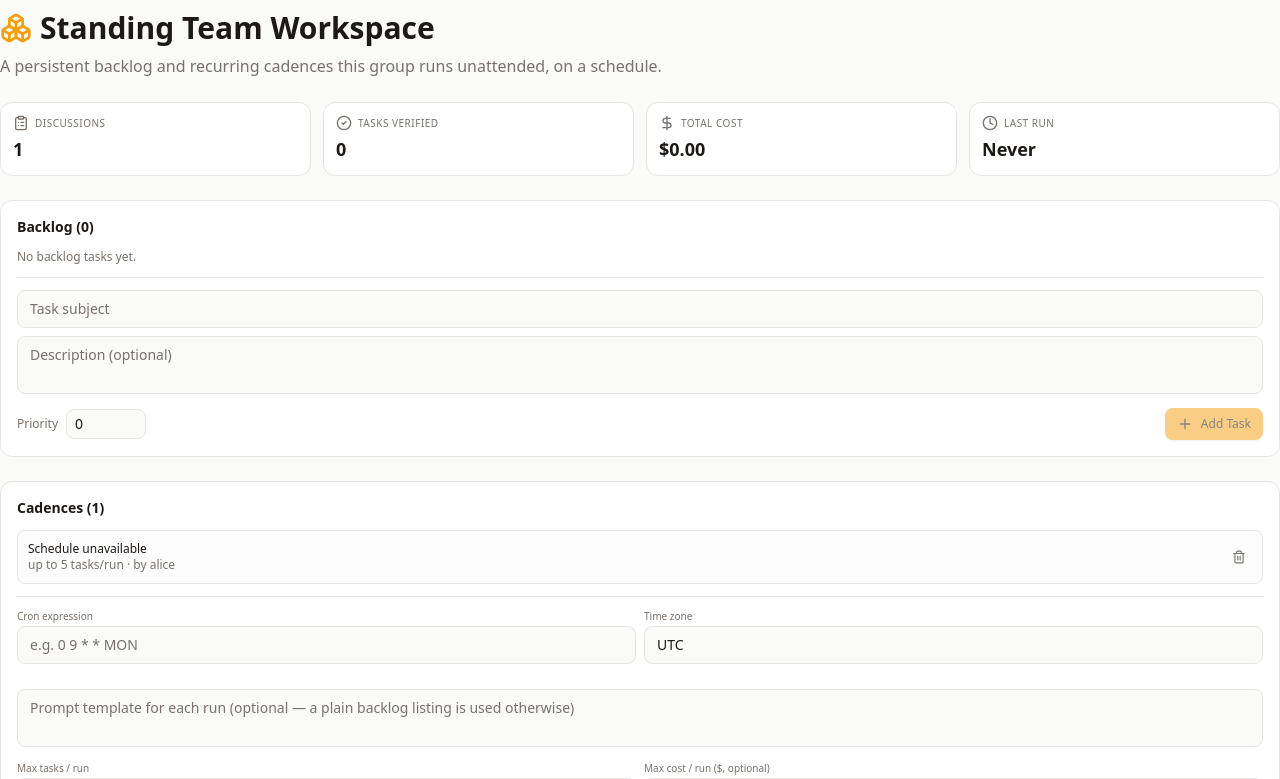
Test: GroupWorkspacePage — cron input › refuses an unparseable expression before the round trip
The width and height of the screenshot is (1280, 779).
In the field with test id "workspace-cron-input": (326,645) [17, 626, 636, 664], type "not a cron"
(page scrolled)
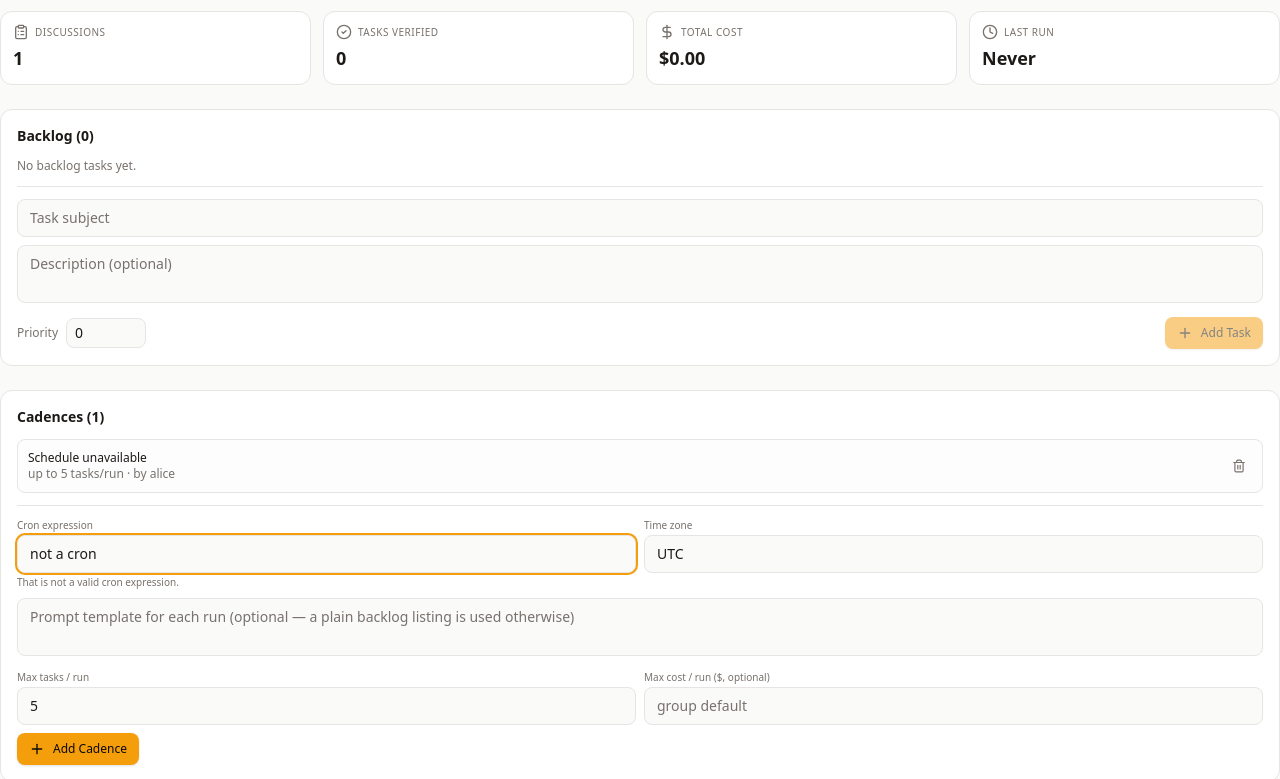
Click the button with test id "workspace-add-cadence": (78,749) [17, 733, 139, 765]
(page scrolled)
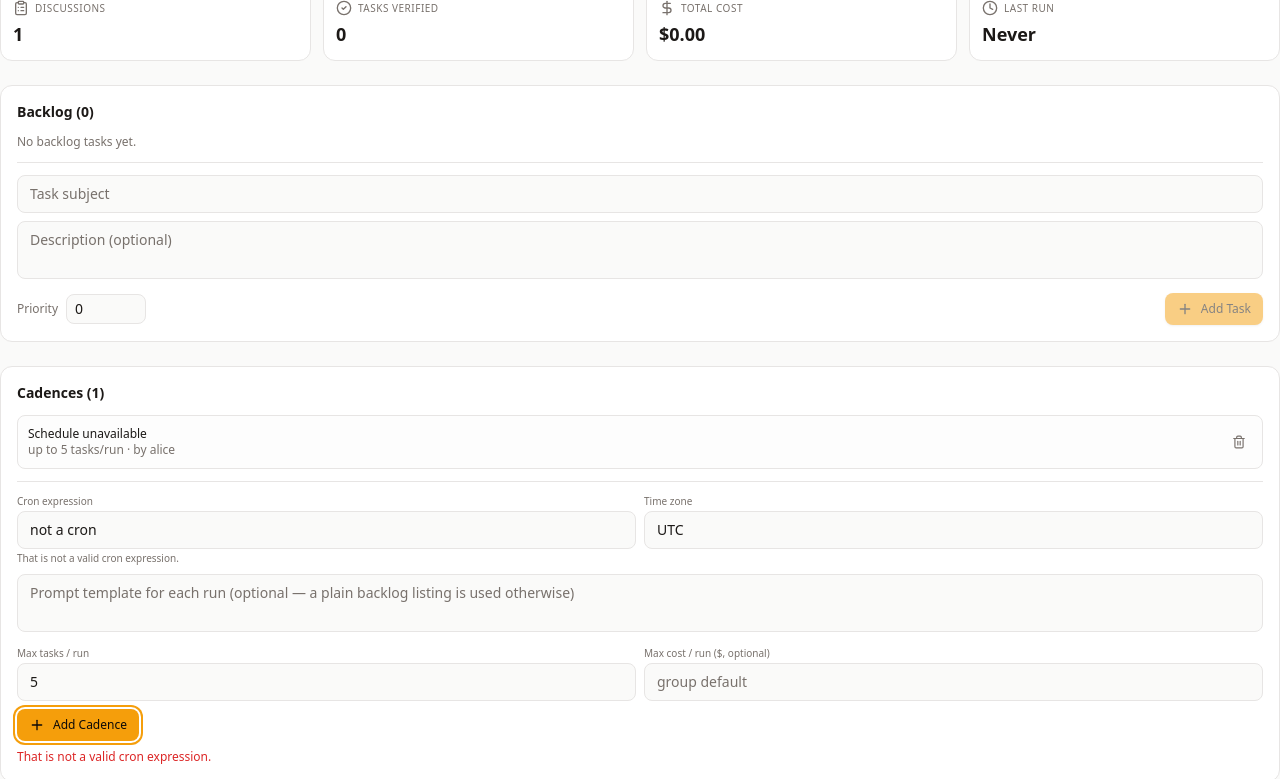
Expected: the text with test id "workspace-cadence-error" shows "not a valid cron", [17, 748, 211, 765]
